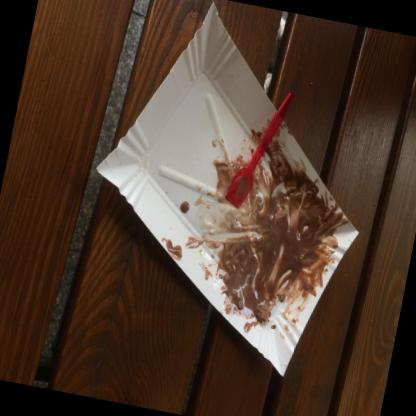Paper: (95, 1, 358, 376)
Plastic: (224, 91, 293, 209)
